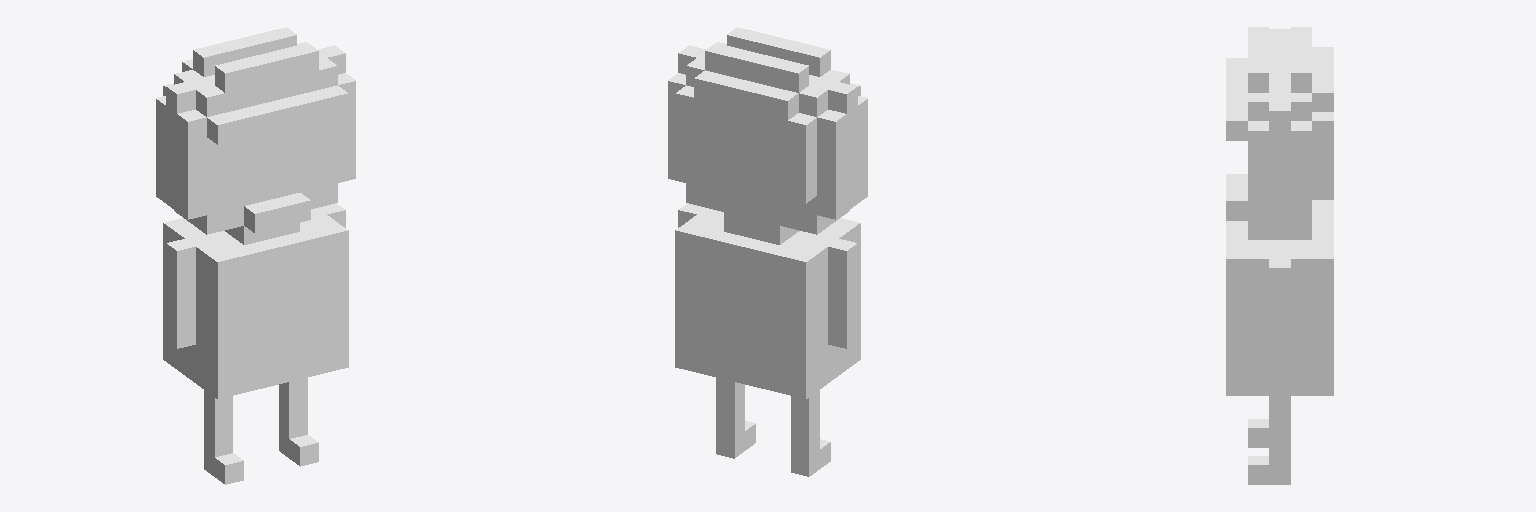
Rendered from character.obj.
3 renders of one model, left to right at view 1: azimuth 30°, elevation 25°; view 2: azimuth 150°, elevation 25°; view 3: azimuth 270°, elevation 25°, orthographic.
Bounding box in the file's own units: 9 × 21 × 5.